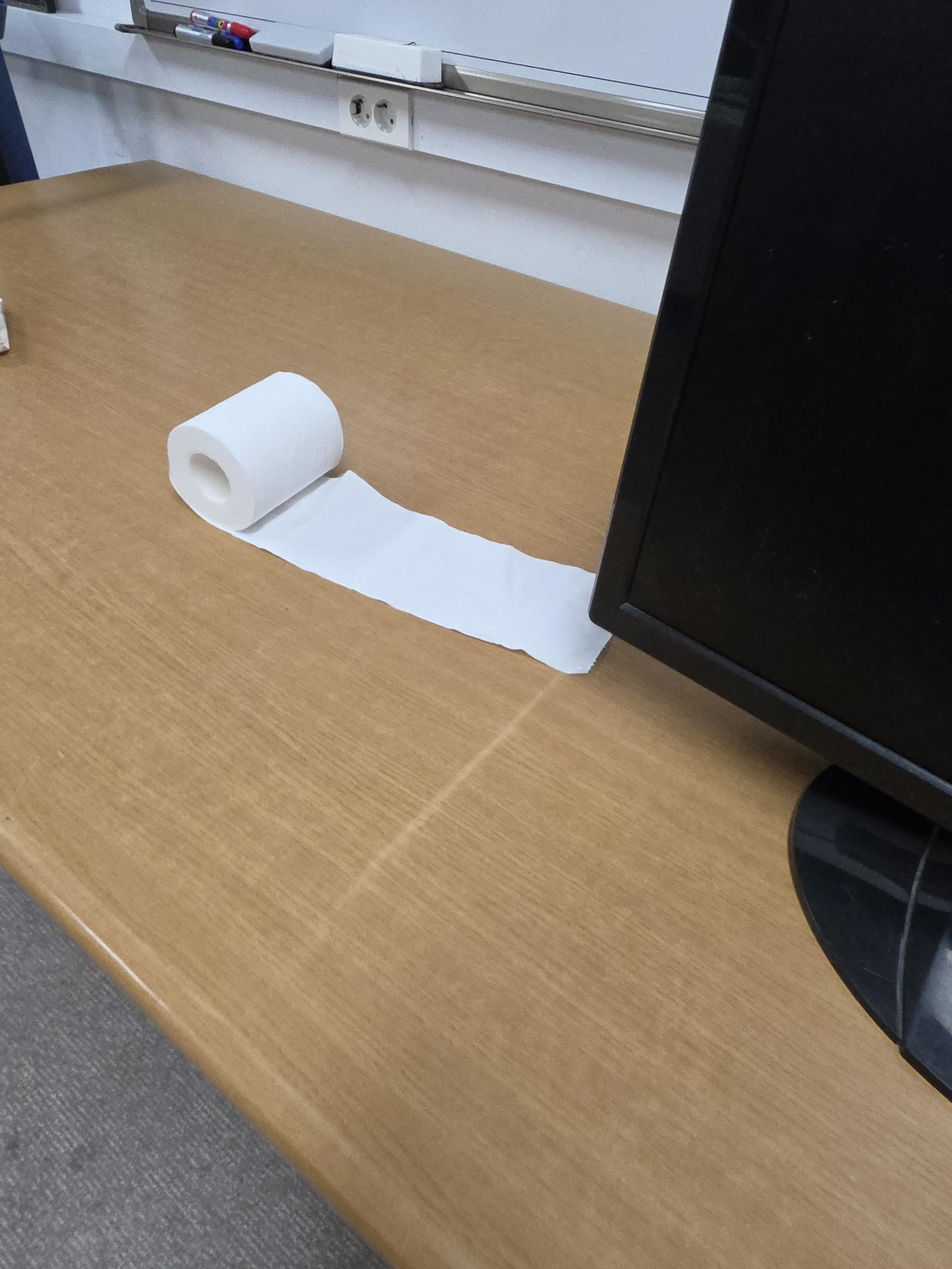tissue: (167, 371, 612, 674)
